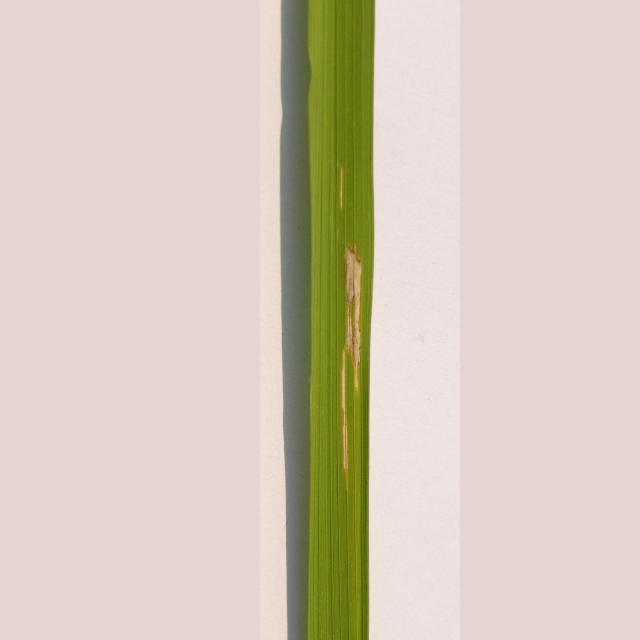Bacterial leaf blight: (256, 1, 414, 640)
